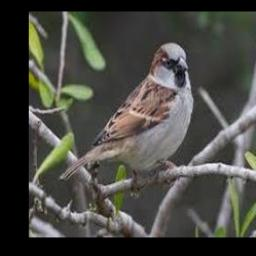Sparrow: (60, 42, 194, 182)
